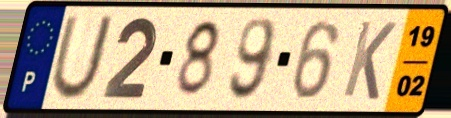2: (99, 14, 161, 104)
6: (290, 18, 342, 103)
8: (171, 18, 220, 101)
9: (226, 17, 278, 104)
K: (339, 17, 399, 103)
U: (48, 13, 118, 103)
